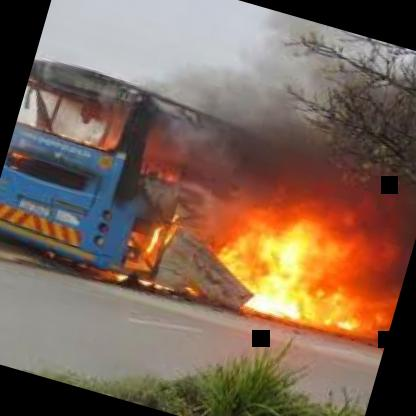fire: (200, 169, 416, 351)
